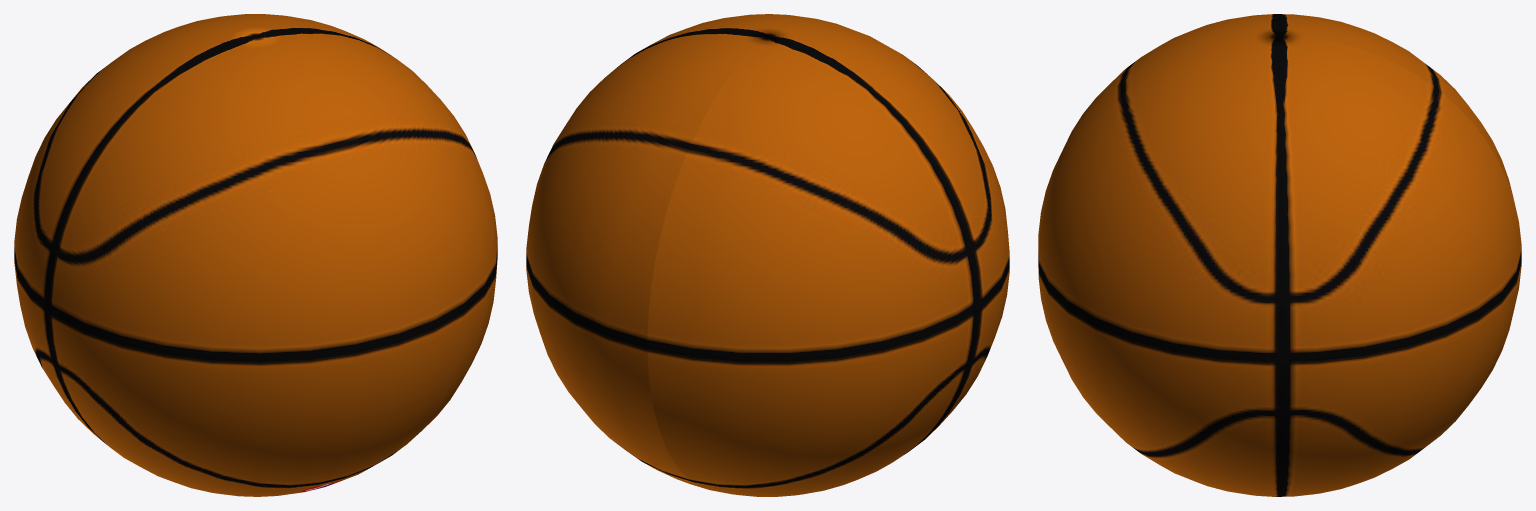
File: basketball.glb
3 views of the same model, side by side, from view 1: azimuth 30°, elevation 25°; view 2: azimuth 150°, elevation 25°; view 3: azimuth 270°, elevation 25° (orthographic).
Visible parts, largest first — view 1: basketball; view 2: basketball; view 3: basketball.
Part boxes in pixels (left/top/right/bottom): basketball: left=14, top=14, right=497, bottom=496; basketball: left=526, top=14, right=1009, bottom=496; basketball: left=1038, top=14, right=1521, bottom=496.
Size of the model in its own units: 1 by 1 by 1.
Materials: 1 (1 with a texture image).
